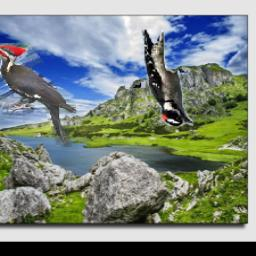Crow: (123, 32, 147, 89)
Woodpecker: (0, 44, 77, 148), (141, 31, 193, 127)
